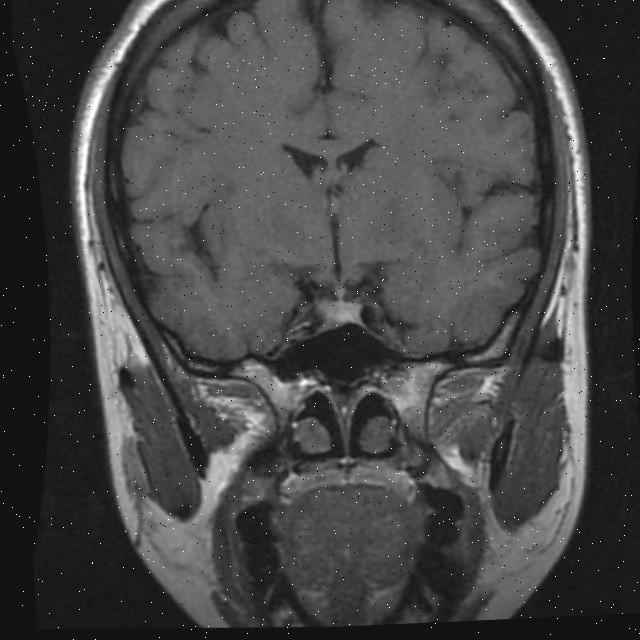Pituitary: (311, 296, 368, 333), (330, 285, 348, 300)
